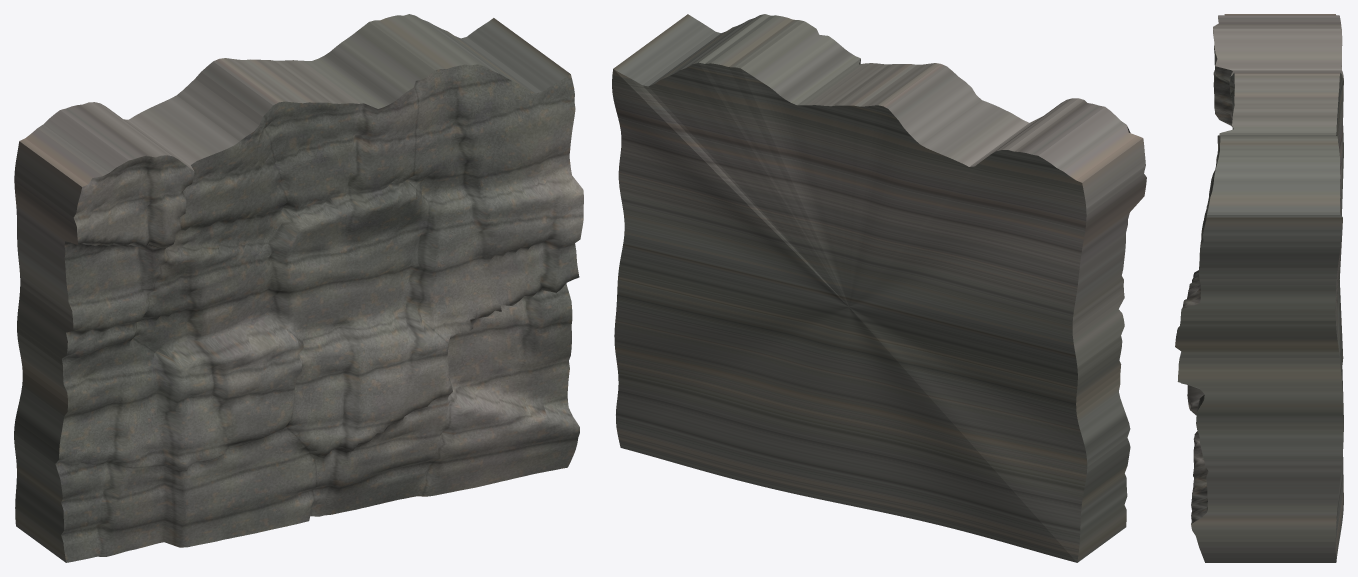
File: rock-lod1.glb
3 renders of one model, left to right at view 1: azimuth 30°, elevation 25°; view 2: azimuth 150°, elevation 25°; view 3: azimuth 270°, elevation 25°, orthographic. The views are drawn at different scales.
Visible parts, largest first — view 1: Rock_LOD1; view 2: Rock_LOD1; view 3: Rock_LOD1.
Part boxes in pixels (left/top/right/bottom): Rock_LOD1: left=14, top=14, right=583, bottom=562; Rock_LOD1: left=612, top=14, right=1146, bottom=562; Rock_LOD1: left=1175, top=14, right=1343, bottom=562.
Size of the model in its own units: 12.07 by 10.01 by 4.11.
1 material, 1 textured.
